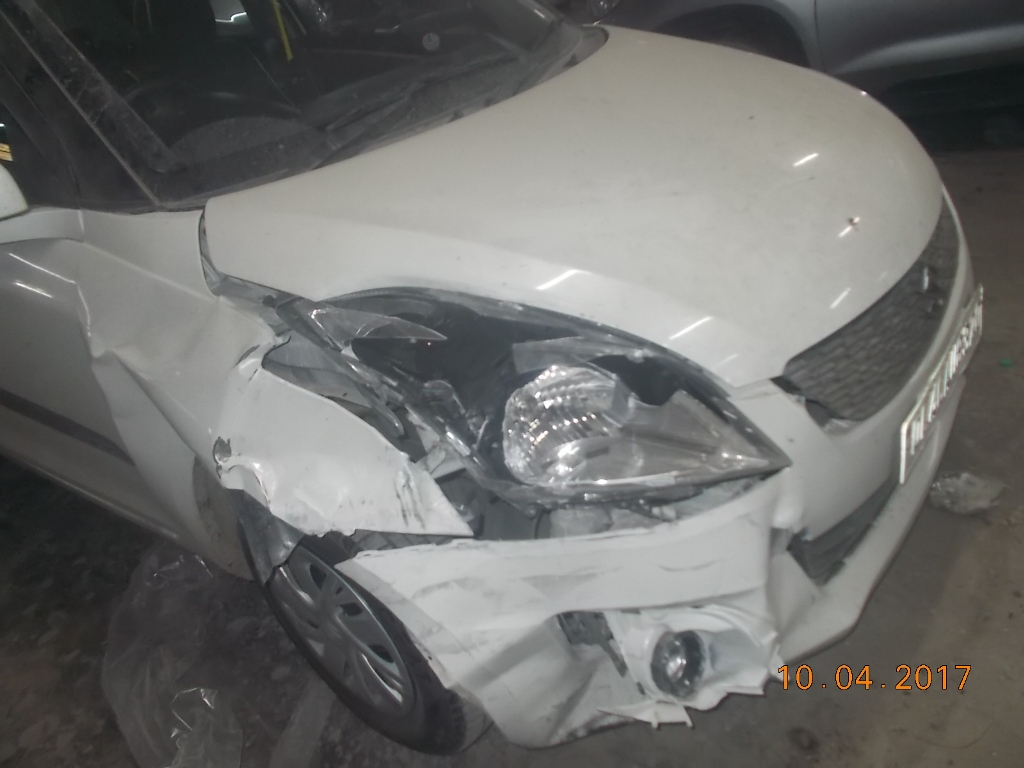Large_tear_or_damage: (125, 236, 791, 703)
